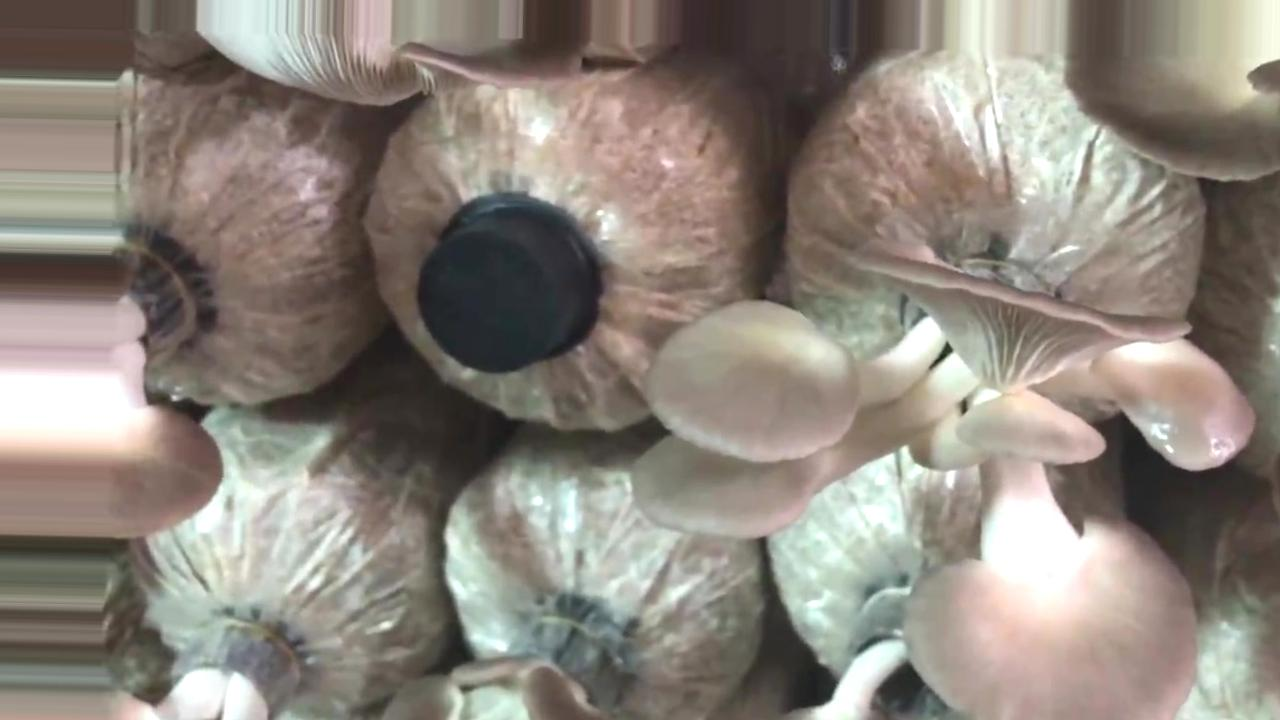nam: (627, 227, 1255, 720), (1, 230, 225, 538)
